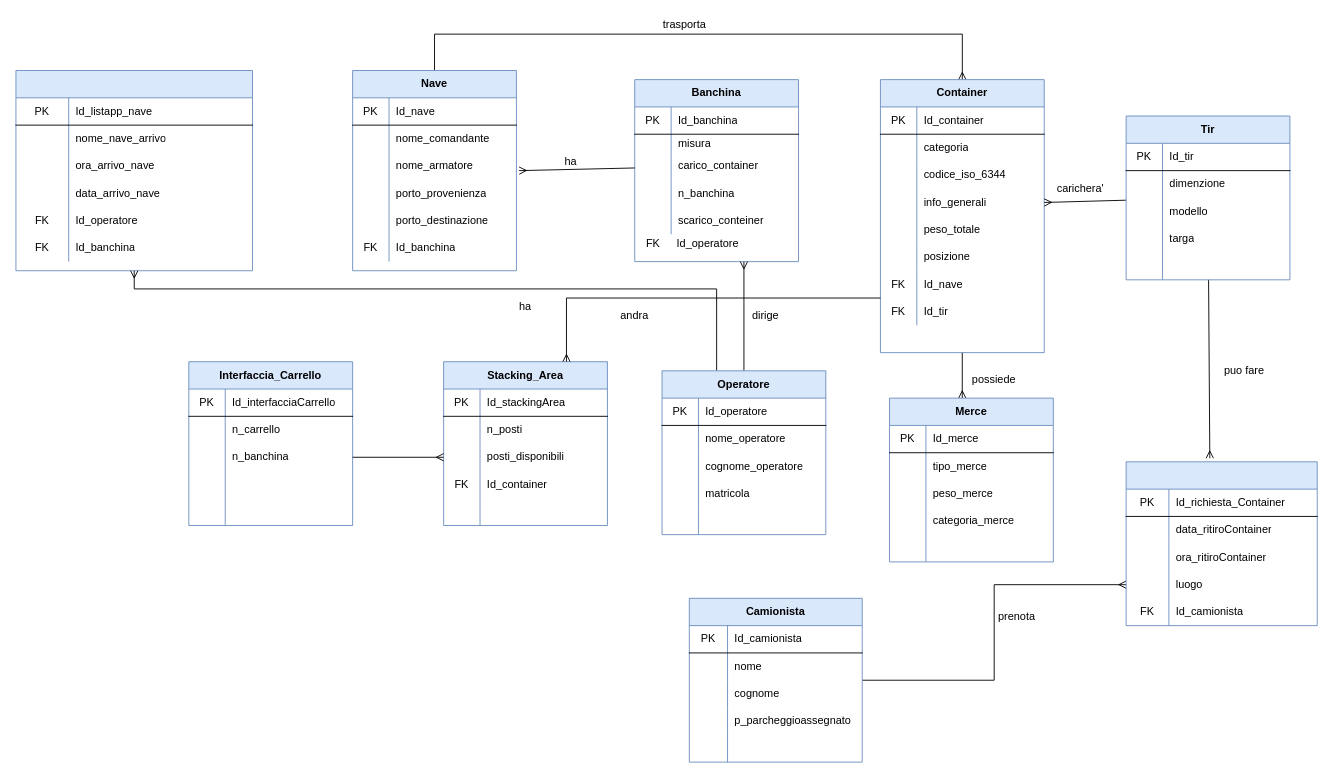
Image size: 1333x778. Some labels were removed from this diagram. The shapes that lost their labels are listed below. From the top down, each one's box as (x1, y1, x2, y2) in pixels, then its label:
(15, 70, 253, 271): Lista_appuntamento_nave
(1125, 461, 1317, 626): Richiesta_tir_lista
